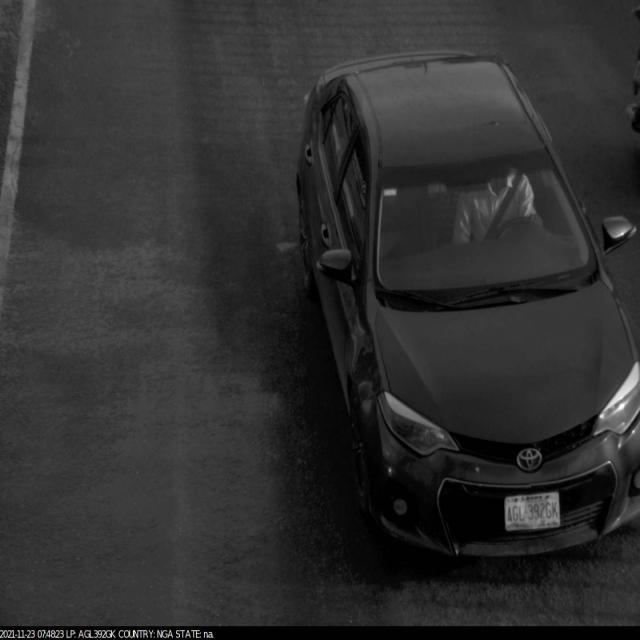windshield: (362, 146, 608, 322)
